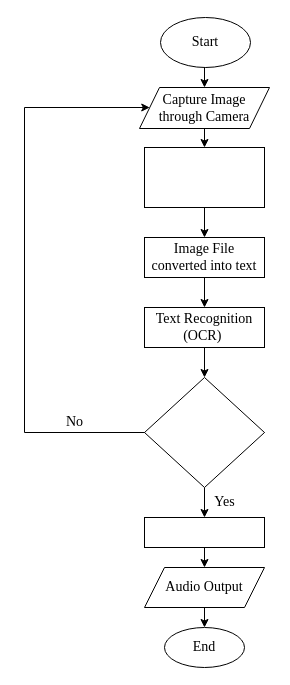
This 290x685 diagram has some shape labels left out. Each missing label, with the box of its shape:
Preprocess Image: (144, 146, 264, 208)
Text Recognized?: (144, 376, 264, 488)
Text-to-Speech: (144, 516, 264, 548)
